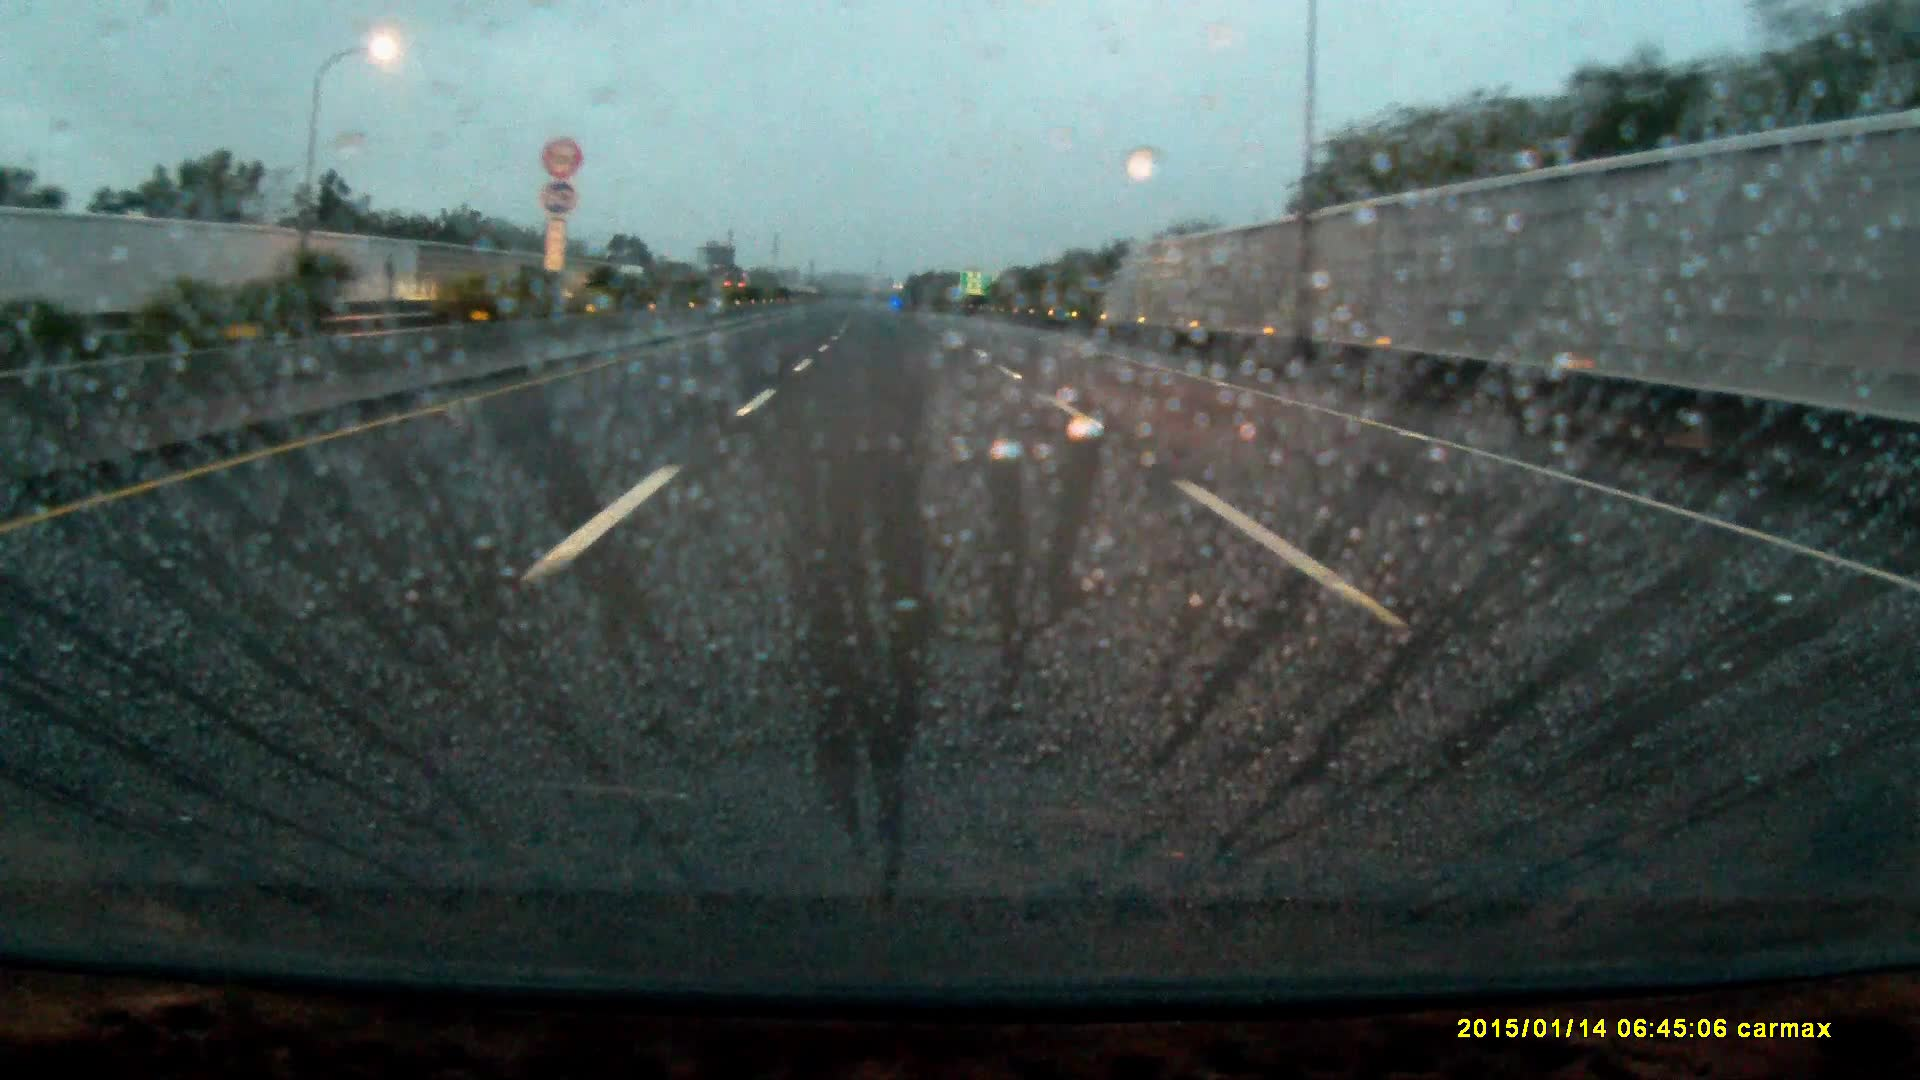vehicle: (618, 268, 653, 303), (724, 282, 756, 309)
